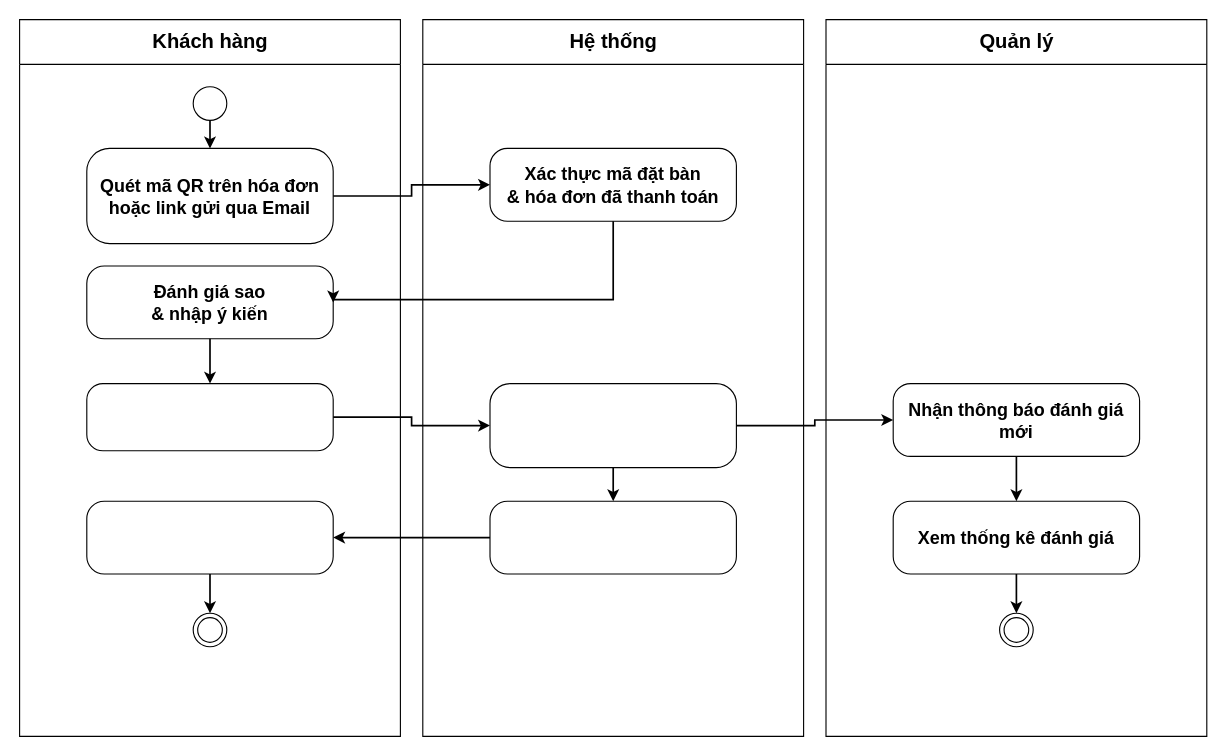
Image size: 1226x756. Some labels were removed from this diagram. Each missing label, with the box of its shape:
Gửi đánh giá: (86, 382, 333, 451)
Hiển thị thông báo cảm ơn khách hàng: (86, 500, 333, 574)
Lưu đánh giá vào CSDL: (489, 382, 736, 468)
Phản hồi kết quả thành công: (489, 500, 736, 574)
